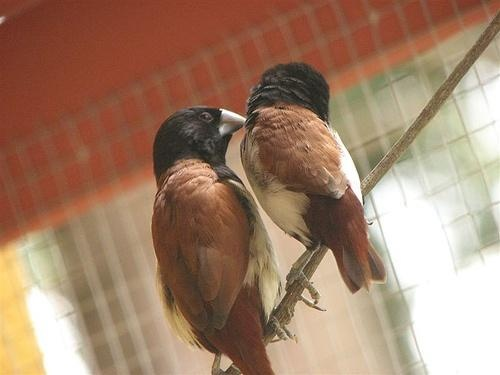bird: (153, 106, 298, 375), (241, 61, 387, 309)
